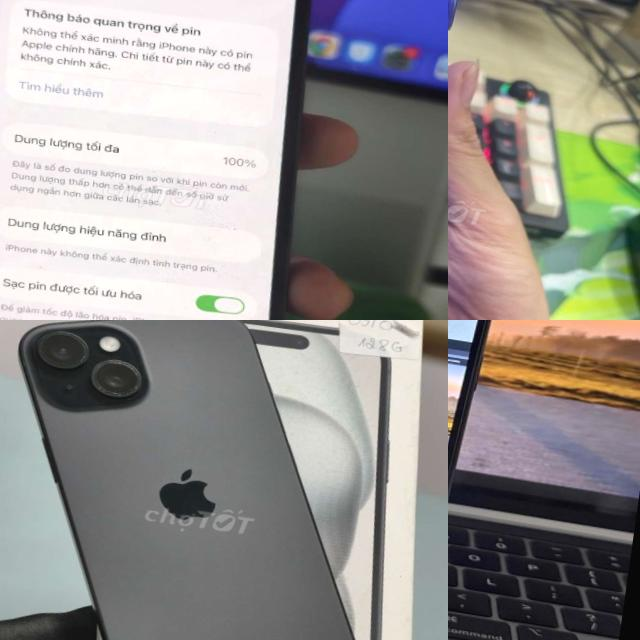scratch: (448, 0, 489, 320), (20, 323, 147, 403)
